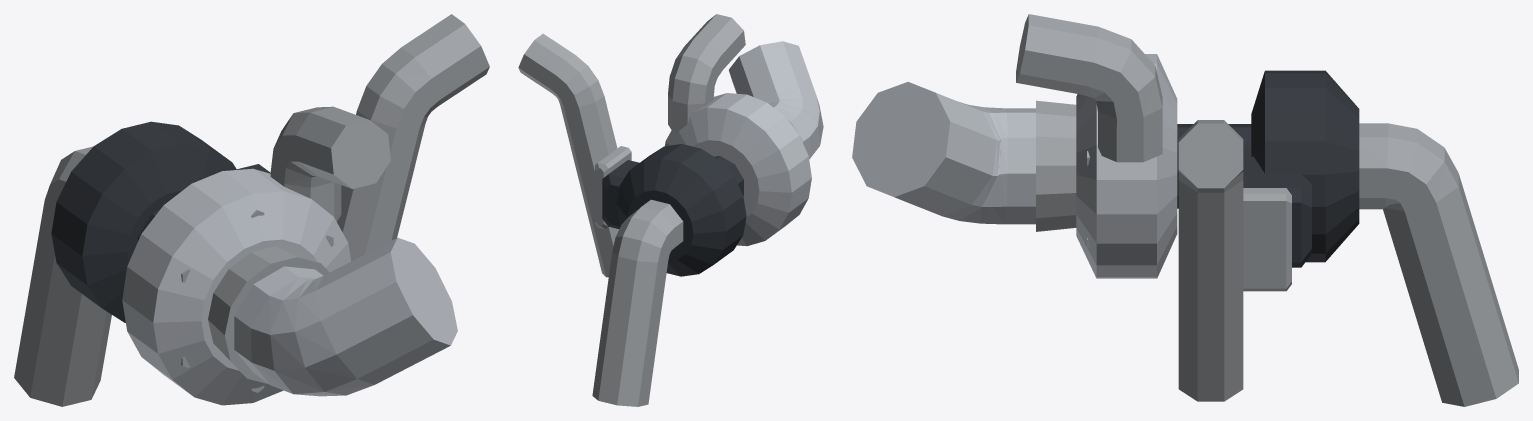
Rendered from ridgeback_4x4.glb.
The picture shows the model from 3 angles, left to right: view 1: azimuth 30°, elevation 25°; view 2: azimuth 150°, elevation 25°; view 3: azimuth 270°, elevation 25°; orthographic projection. The views are drawn at different scales.
Visible parts, largest first — view 1: model; view 2: model; view 3: model.
Part boxes in pixels (x1,y1,x2,y2): model: (14,14,489,406); model: (518,14,823,406); model: (852,14,1518,406).
Size of the model in its own units: 0.3233 by 0.3354 by 0.4949.
Materials: 2 (1 with a texture image).
